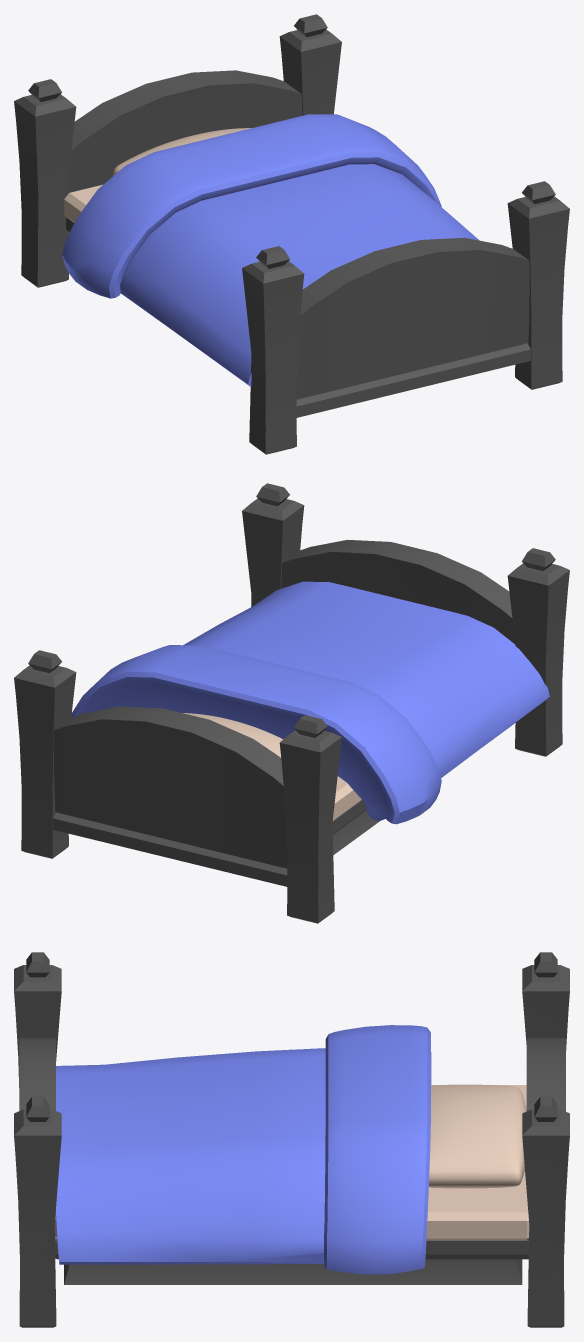
Rendered from yatak.fbx.
3 views of the same model, one above another, from view 1: azimuth 30°, elevation 25°; view 2: azimuth 150°, elevation 25°; view 3: azimuth 270°, elevation 25° (orthographic). The views are drawn at different scales.
Parts seen in each view (by area): view 1: Cube.005; view 2: Cube.005; view 3: Cube.005.
Part boxes in pixels (x1,y1,x2,y2): Cube.005: [14, 14, 569, 454]; Cube.005: [14, 483, 569, 923]; Cube.005: [14, 952, 569, 1327].
Size of the model in its own units: 566 by 305 by 702.
